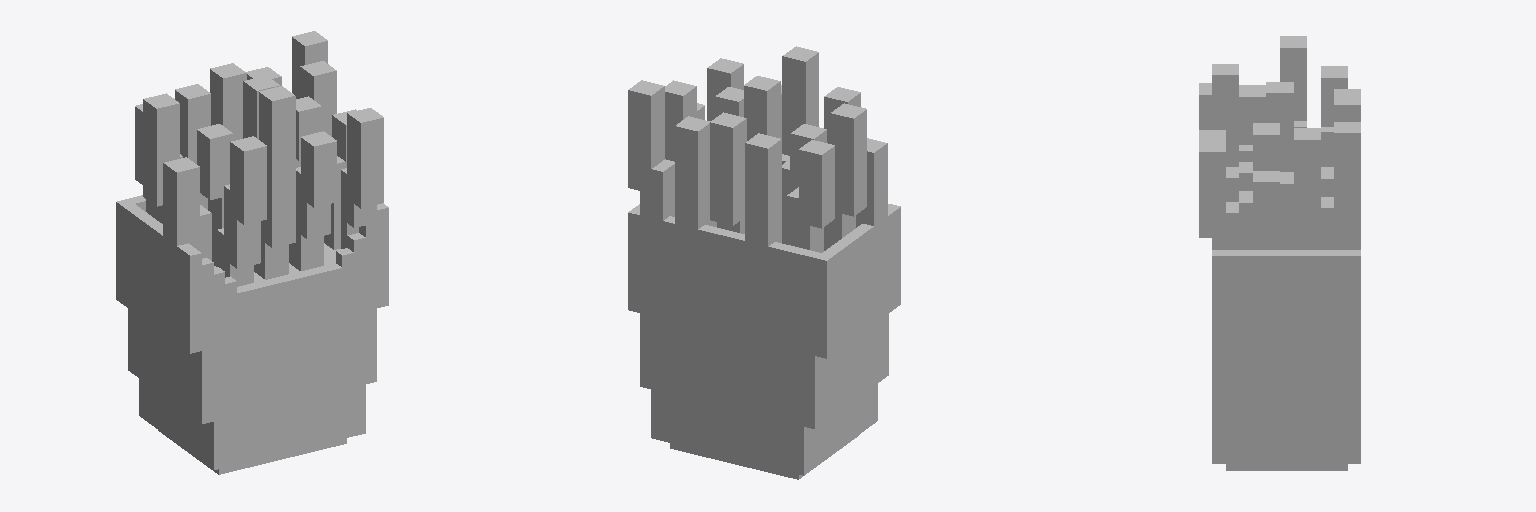
Rendered from fries.obj.
The picture shows the model from 3 angles: view 1: azimuth 30°, elevation 25°; view 2: azimuth 150°, elevation 25°; view 3: azimuth 270°, elevation 25°; orthographic projection.
Visible parts, largest first — view 1: object 1; view 2: object 1; view 3: object 1.
Boxes of the visible parts, box(x1,y1,x2,y2) form: object 1: box(116, 31, 388, 474); object 1: box(628, 46, 900, 479); object 1: box(1199, 36, 1360, 470).
Bounding box in the file's own units: 1.7 × 3 × 1.2.